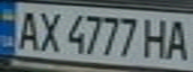4: (63, 10, 87, 54)
7: (81, 11, 106, 55), (118, 14, 142, 58), (100, 12, 121, 56)
A: (163, 16, 193, 62), (12, 7, 42, 52)
H: (139, 15, 172, 60)
X: (33, 8, 63, 53)
